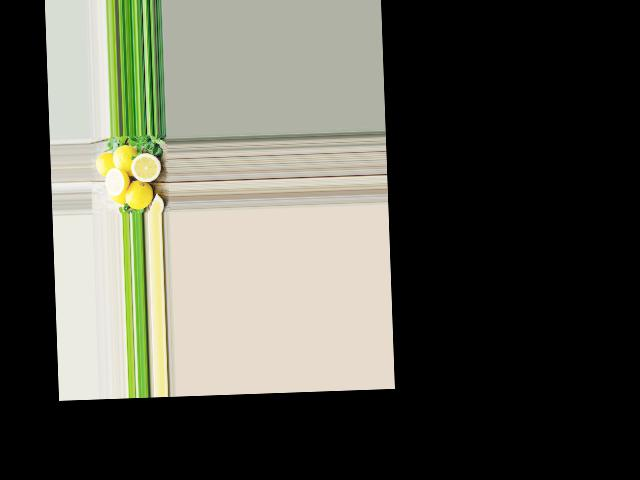lemon: (108, 189, 128, 206)
